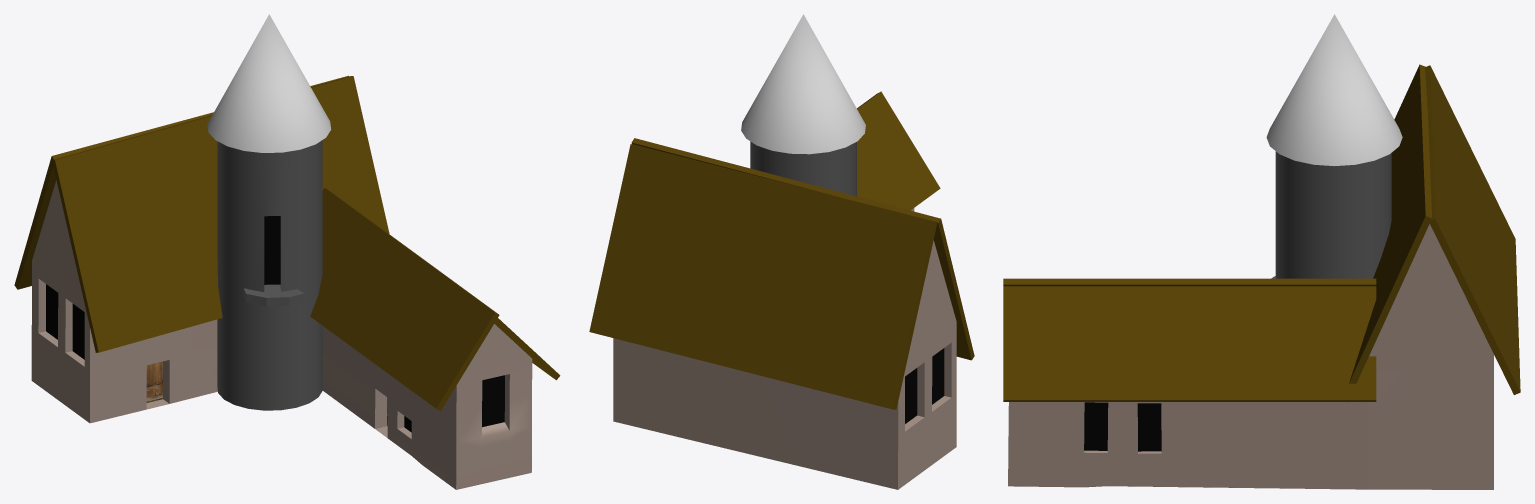
File: House.fbx
The picture shows the model from 3 angles, left to right: view 1: azimuth 30°, elevation 25°; view 2: azimuth 150°, elevation 25°; view 3: azimuth 270°, elevation 25°; orthographic projection. The views are drawn at different scales.
Parts seen in each view (by area): view 1: pCube24; view 2: pCube24; view 3: pCube24.
Boxes of the visible parts, bbox=[...] form: pCube24: bbox=[14, 14, 560, 489]; pCube24: bbox=[589, 14, 974, 489]; pCube24: bbox=[1003, 14, 1520, 489].
Bounding box in the file's own units: 13.23 × 15.2 × 17.2.
